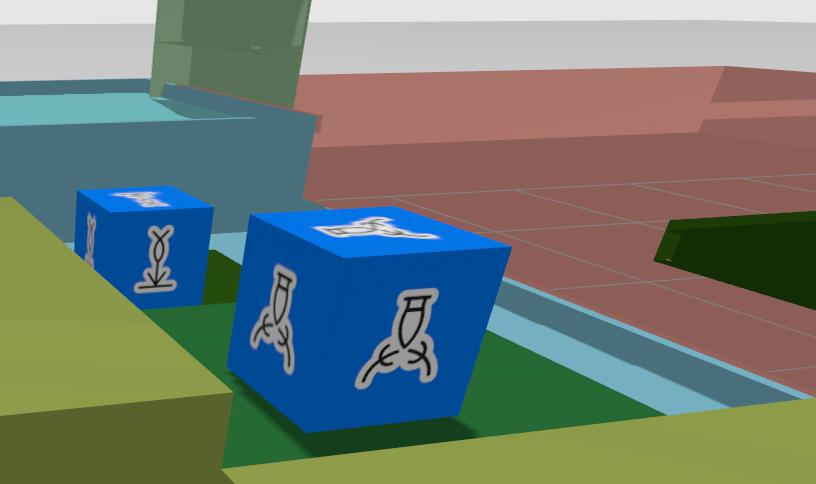KFS_REAL: (223, 204, 509, 435), (75, 184, 217, 309), (354, 289, 438, 388), (251, 265, 296, 374), (132, 225, 177, 294), (315, 216, 438, 237), (114, 192, 168, 206), (84, 214, 96, 267), (304, 427, 306, 429)
